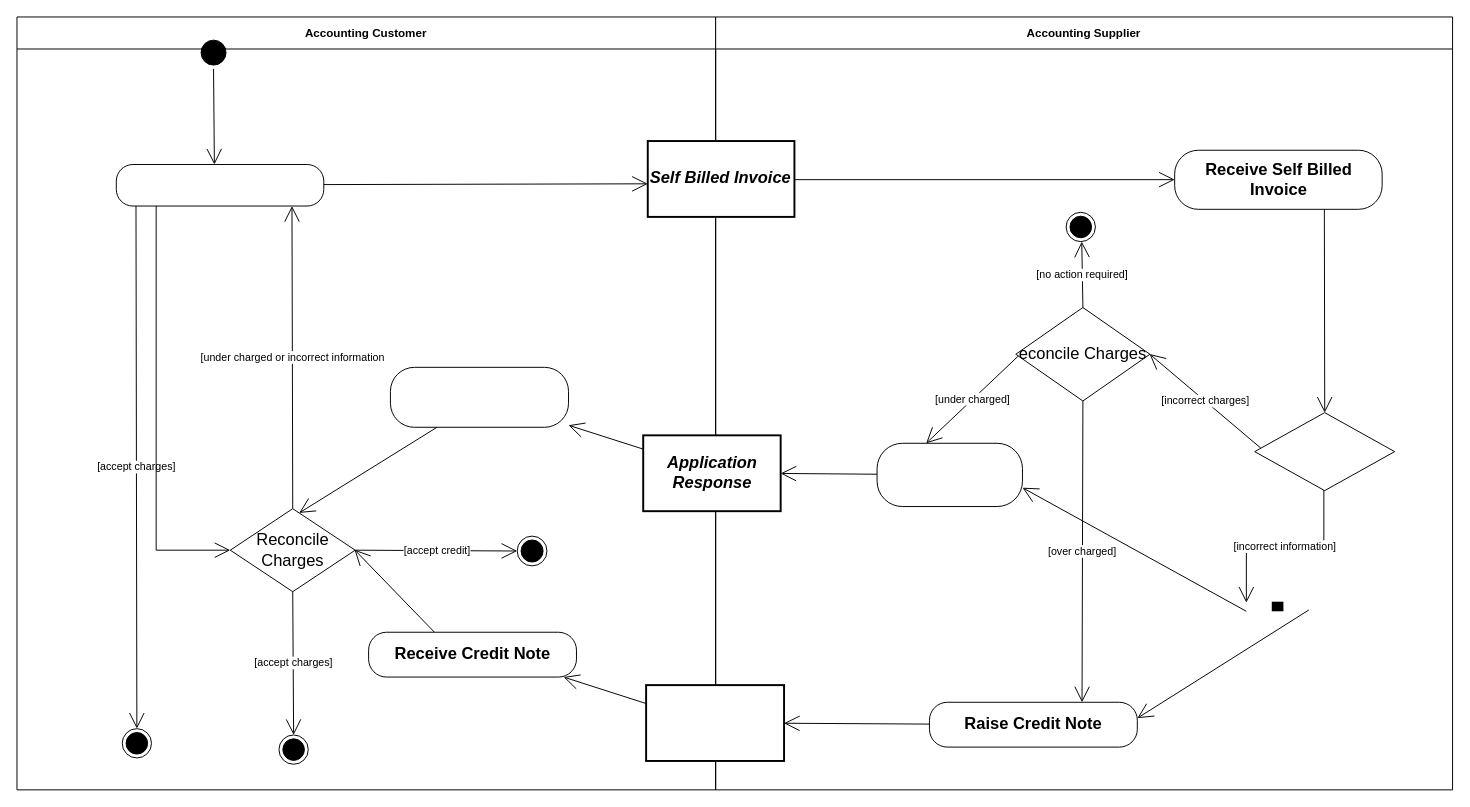
The diagram is 1470 pixels wide and 807 high, and some of its shapes have lost their labels. Here are the shapes that lost their labels. From the top down, the centre of each, then its label:
At pixel 219 185: "Raise Self Billed Invoice".
At pixel 479 396: "Receive Account Response".
At pixel 1324 451: "Validate Invoice".
At pixel 949 474: "Send Account Response".
At pixel 715 722: "Credit Note".
